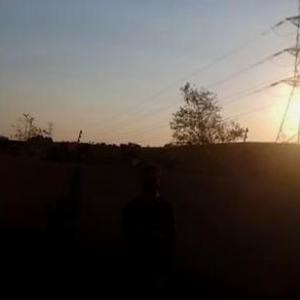follow: (117, 159, 180, 299)
